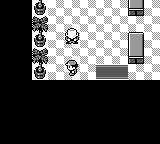main: (65, 61, 78, 75)
no-caminable: (0, 0, 159, 143), (31, 0, 47, 80), (129, 33, 144, 64), (129, 0, 144, 16)
npc: (64, 29, 80, 44)
puerta: (94, 65, 131, 79)
